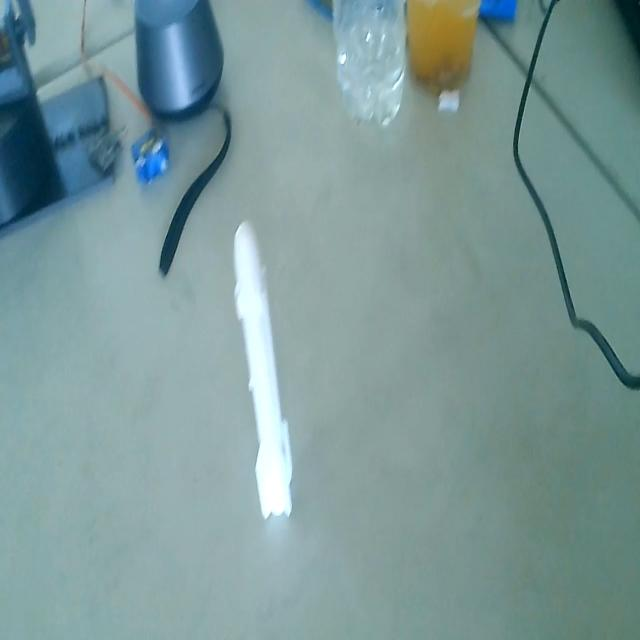Rocket: (228, 217, 296, 521)
